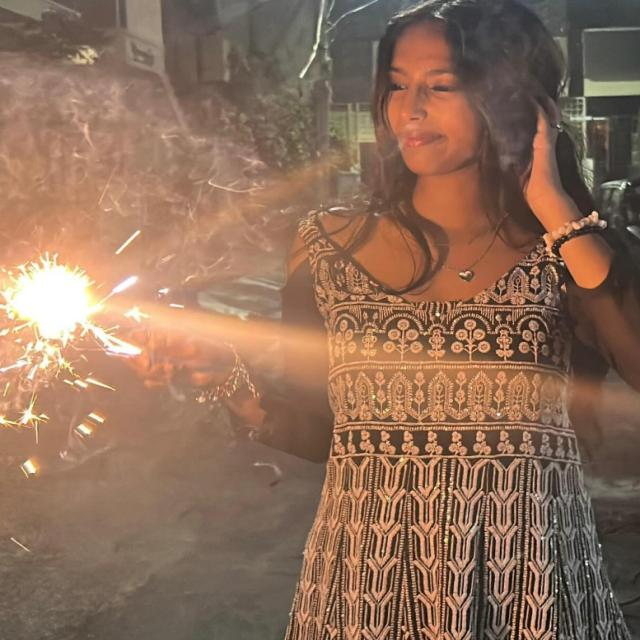fire: (4, 255, 93, 339)
